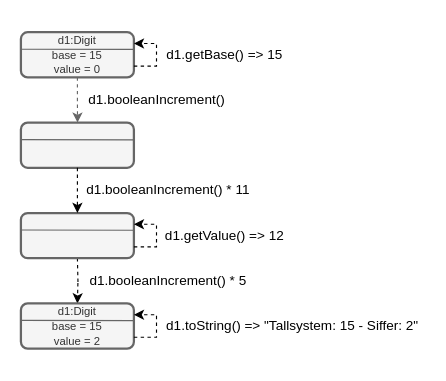
Image size: 446x381. Some labels were removed from this diagram. Here are the shapes that lost their labels. From the top down, the box of each, then its label:
(19, 121, 134, 168): d1:Digit base = 15 value = 1
(19, 211, 134, 259): d1:Digit base = 15 value = C
